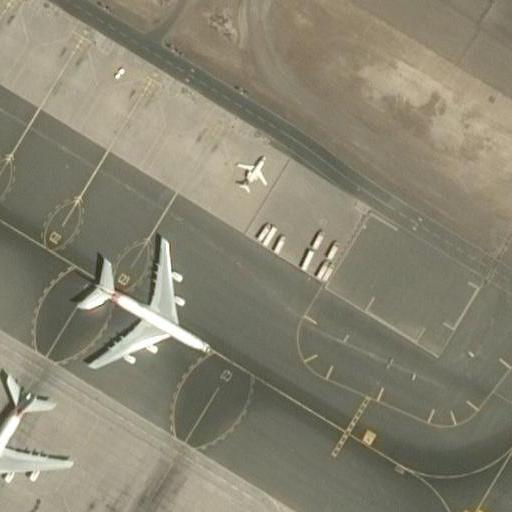Aircraft: (74, 234, 210, 366), (0, 368, 70, 508), (236, 155, 268, 196)
